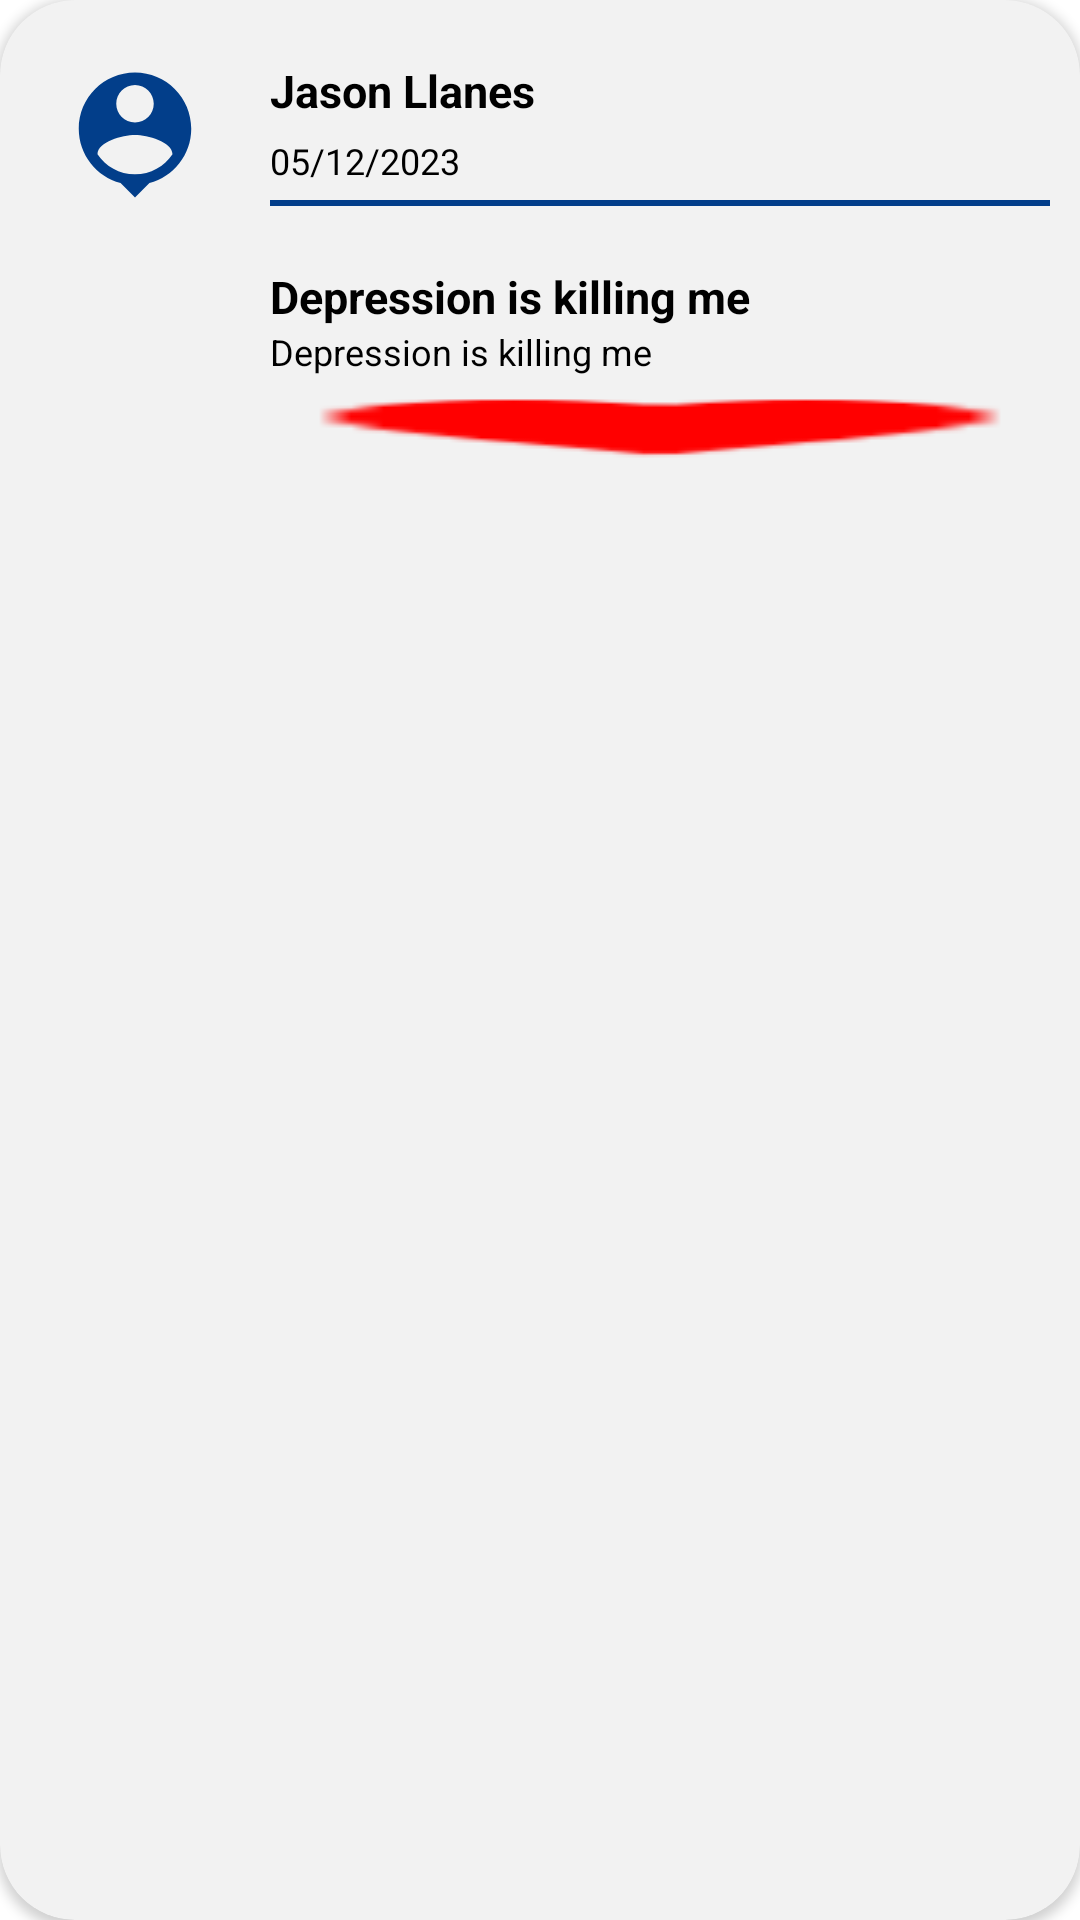

Icon click points for this 1080*1920 phone screenshot, format (x,y):
user: (135,135)
